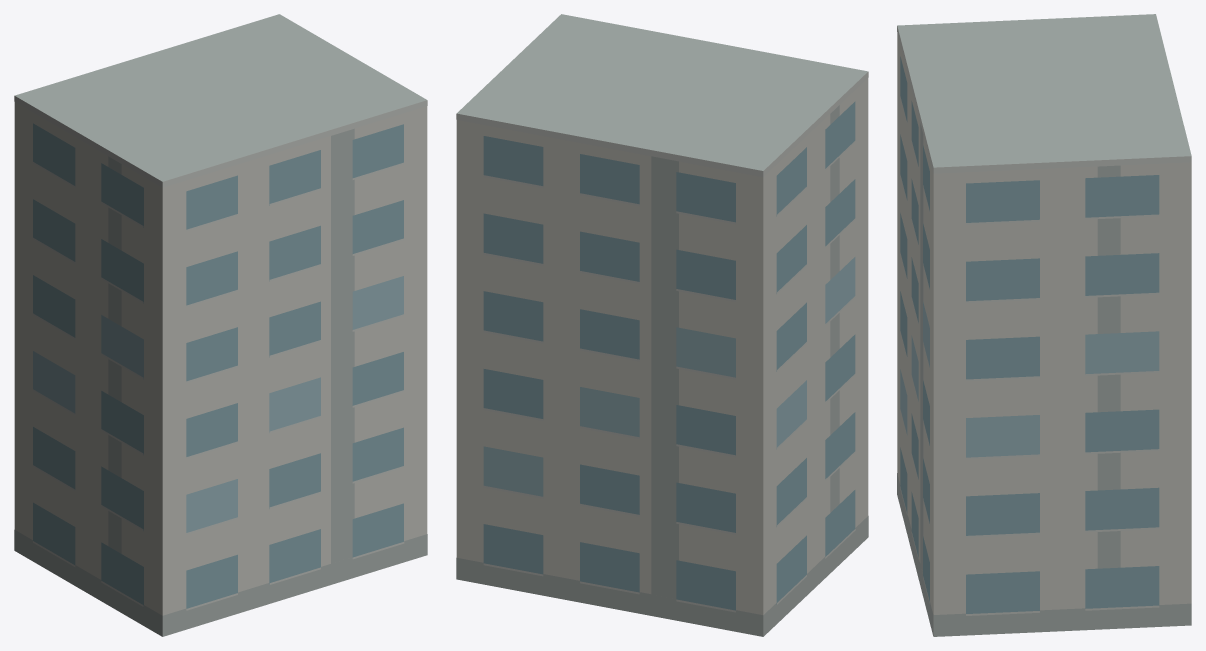
File: survey-upis-32563913.glb
3 views of the same model, side by side, from view 1: azimuth 30°, elevation 25°; view 2: azimuth 150°, elevation 25°; view 3: azimuth 270°, elevation 25° (orthographic). The views are drawn at different scales.
Parts seen in each view (by area): view 1: survey-upis-32563913.tmp; view 2: survey-upis-32563913.tmp; view 3: survey-upis-32563913.tmp.
Boxes of the visible parts, x1,y1,x2,y2 form: survey-upis-32563913.tmp: [14, 14, 427, 636]; survey-upis-32563913.tmp: [456, 14, 868, 636]; survey-upis-32563913.tmp: [897, 14, 1191, 636].
Bounding box in the file's own units: 12.85 × 18.3 × 10.42.
